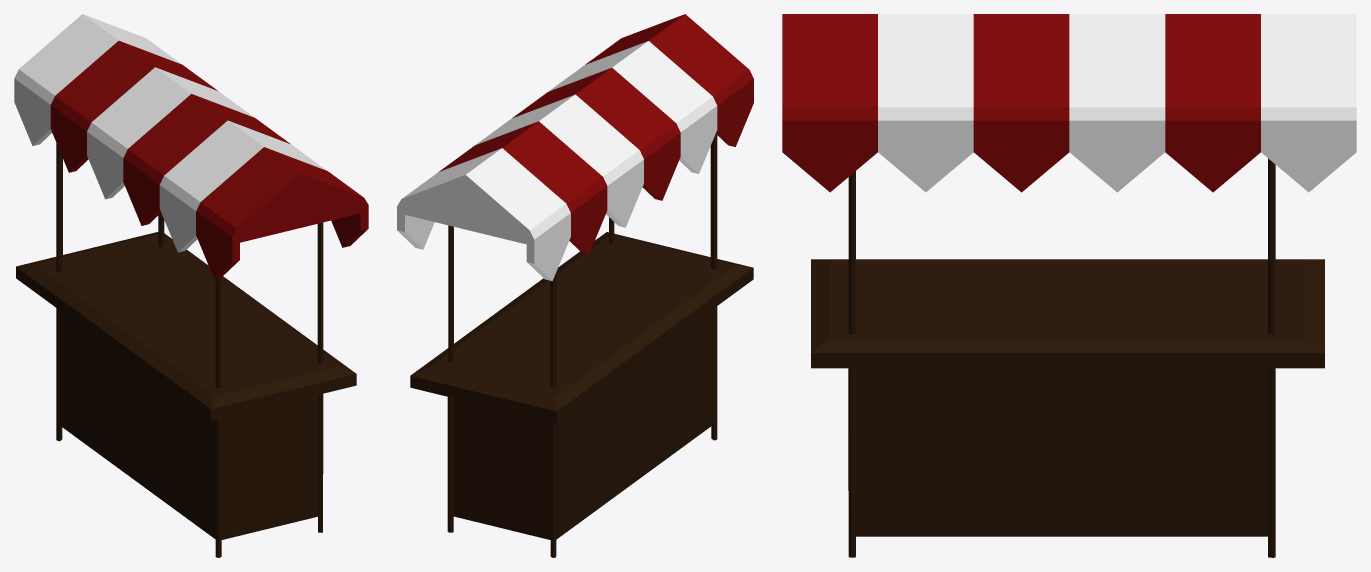
Rendered from MarketStall07.fbx.
3 renders of one model, left to right at view 1: azimuth 30°, elevation 25°; view 2: azimuth 150°, elevation 25°; view 3: azimuth 270°, elevation 25°, orthographic. The views are drawn at different scales.
Visible parts, largest first — view 1: Box002; view 2: Box002; view 3: Box002.
Boxes of the visible parts, x1,y1,x2,y2 form: Box002: (14, 14, 368, 557); Box002: (397, 14, 753, 557); Box002: (782, 14, 1356, 557).
Size of the model in its own units: 102 by 258 by 262.
